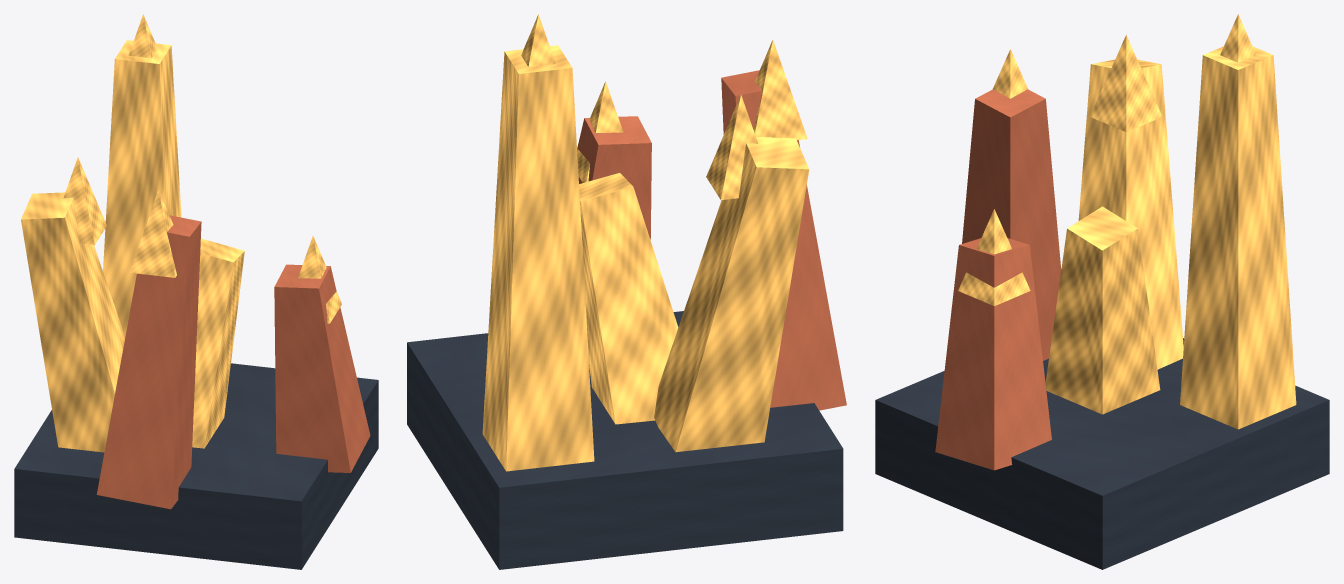
File: atlas100-s021-a04.lod1.glb
3 views of the same model, side by side, from view 1: azimuth 30°, elevation 25°; view 2: azimuth 150°, elevation 25°; view 3: azimuth 270°, elevation 25° (orthographic). The views are drawn at different scales.
Visible parts, largest first — view 1: atlas100-s021-a04:part-000, atlas100-s021-a04:part-003, atlas100-s021-a04:part-009, atlas100-s021-a04:part-007, atlas100-s021-a04:part-005, atlas100-s021-a04:part-001, atlas100-s021-a04:part-004, atlas100-s021-a04:part-010, atlas100-s021-a04:part-008, atlas100-s021-a04:part-006; view 2: atlas100-s021-a04:part-000, atlas100-s021-a04:part-005, atlas100-s021-a04:part-009, atlas100-s021-a04:part-001, atlas100-s021-a04:part-003, atlas100-s021-a04:part-007, atlas100-s021-a04:part-004, atlas100-s021-a04:part-010, atlas100-s021-a04:part-008, atlas100-s021-a04:part-006; view 3: atlas100-s021-a04:part-000, atlas100-s021-a04:part-005, atlas100-s021-a04:part-007, atlas100-s021-a04:part-001, atlas100-s021-a04:part-009, atlas100-s021-a04:part-003, atlas100-s021-a04:part-010, atlas100-s021-a04:part-008, atlas100-s021-a04:part-006, atlas100-s021-a04:part-004.
Part boxes in pixels (<box>): atlas100-s021-a04:part-000: <box>14,363,378,569</box>; atlas100-s021-a04:part-003: <box>96,215,201,509</box>; atlas100-s021-a04:part-009: <box>21,192,125,452</box>; atlas100-s021-a04:part-007: <box>274,264,370,472</box>; atlas100-s021-a04:part-005: <box>103,40,181,336</box>; atlas100-s021-a04:part-001: <box>192,238,244,448</box>; atlas100-s021-a04:part-004: <box>129,190,176,277</box>; atlas100-s021-a04:part-010: <box>63,157,106,245</box>; atlas100-s021-a04:part-008: <box>298,236,341,323</box>; atlas100-s021-a04:part-006: <box>128,14,157,58</box>; atlas100-s021-a04:part-000: <box>407,311,843,569</box>; atlas100-s021-a04:part-005: <box>482,45,594,471</box>; atlas100-s021-a04:part-009: <box>654,137,809,452</box>; atlas100-s021-a04:part-001: <box>579,173,678,424</box>; atlas100-s021-a04:part-003: <box>721,70,846,410</box>; atlas100-s021-a04:part-007: <box>577,116,651,239</box>; atlas100-s021-a04:part-004: <box>753,39,807,140</box>; atlas100-s021-a04:part-010: <box>706,95,758,199</box>; atlas100-s021-a04:part-008: <box>577,81,623,182</box>; atlas100-s021-a04:part-006: <box>521,14,555,66</box>; atlas100-s021-a04:part-000: <box>875,338,1329,569</box>; atlas100-s021-a04:part-005: <box>1180,46,1296,429</box>; atlas100-s021-a04:part-007: <box>935,238,1051,470</box>; atlas100-s021-a04:part-001: <box>1045,206,1160,414</box>; atlas100-s021-a04:part-009: <box>1078,59,1183,369</box>; atlas100-s021-a04:part-003: <box>962,89,1061,360</box>; atlas100-s021-a04:part-010: <box>1090,35,1162,131</box>; atlas100-s021-a04:part-008: <box>958,209,1030,306</box>; atlas100-s021-a04:part-006: <box>1220,14,1255,62</box>; atlas100-s021-a04:part-004: <box>993,49,1027,98</box>.
Size of the model in its own units: 1.07 by 1.21 by 1.07.
3 materials, 3 textured.
